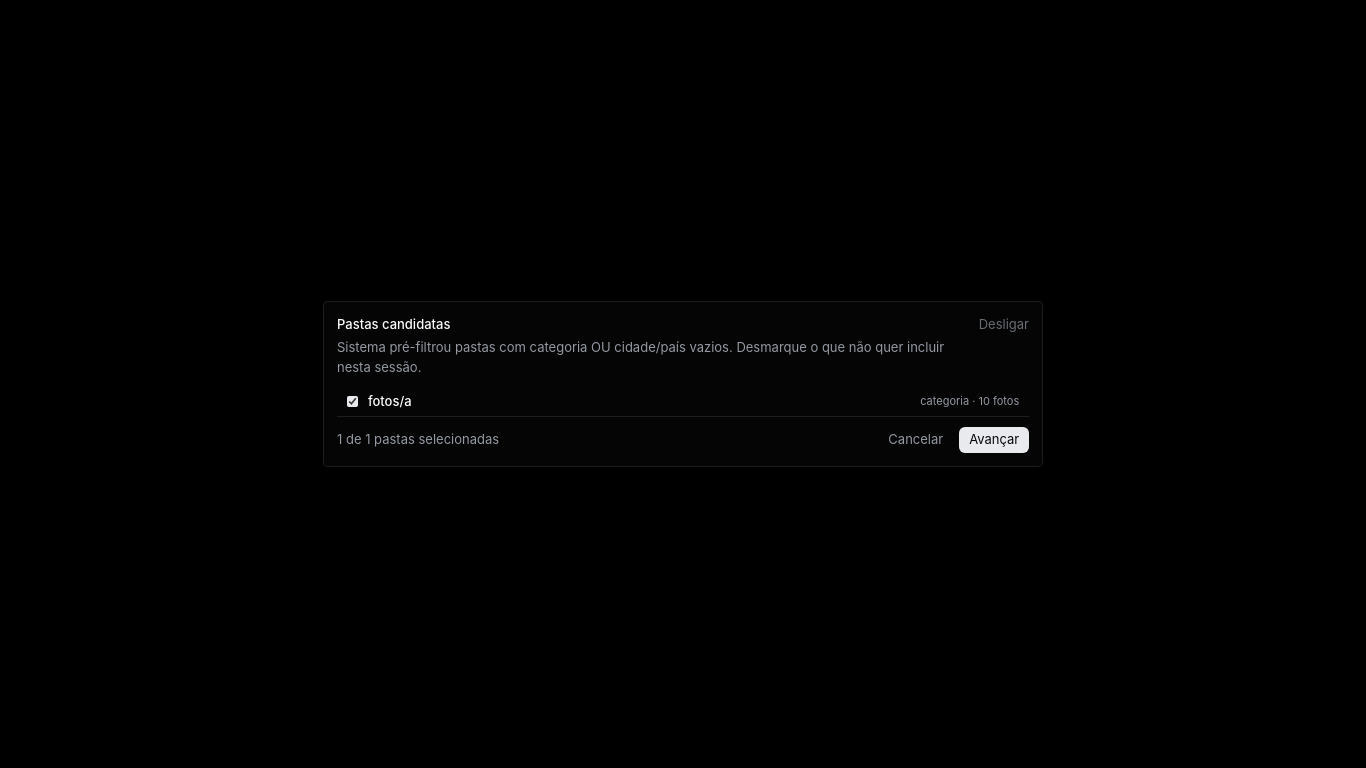
Test: ClassificacaoPasta › passo de custo mostra "até" no total
The width and height of the screenshot is (1366, 768).
Click the button "Avançar" at [994, 440], box x1=959 y1=427 x2=1029 y2=453
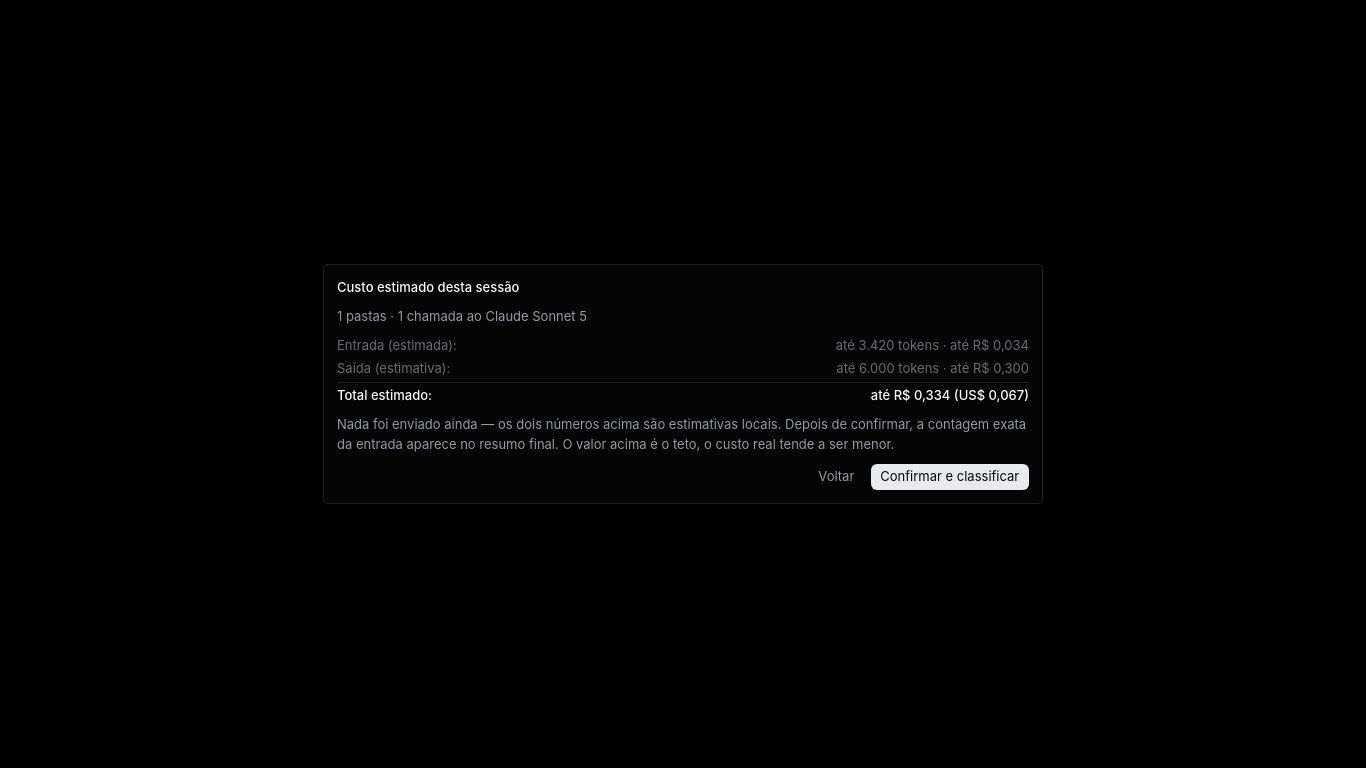
Result: the text "até R$ 0,334 (US$ 0,067)" is shown at x1=871 y1=386 x2=1029 y2=406
